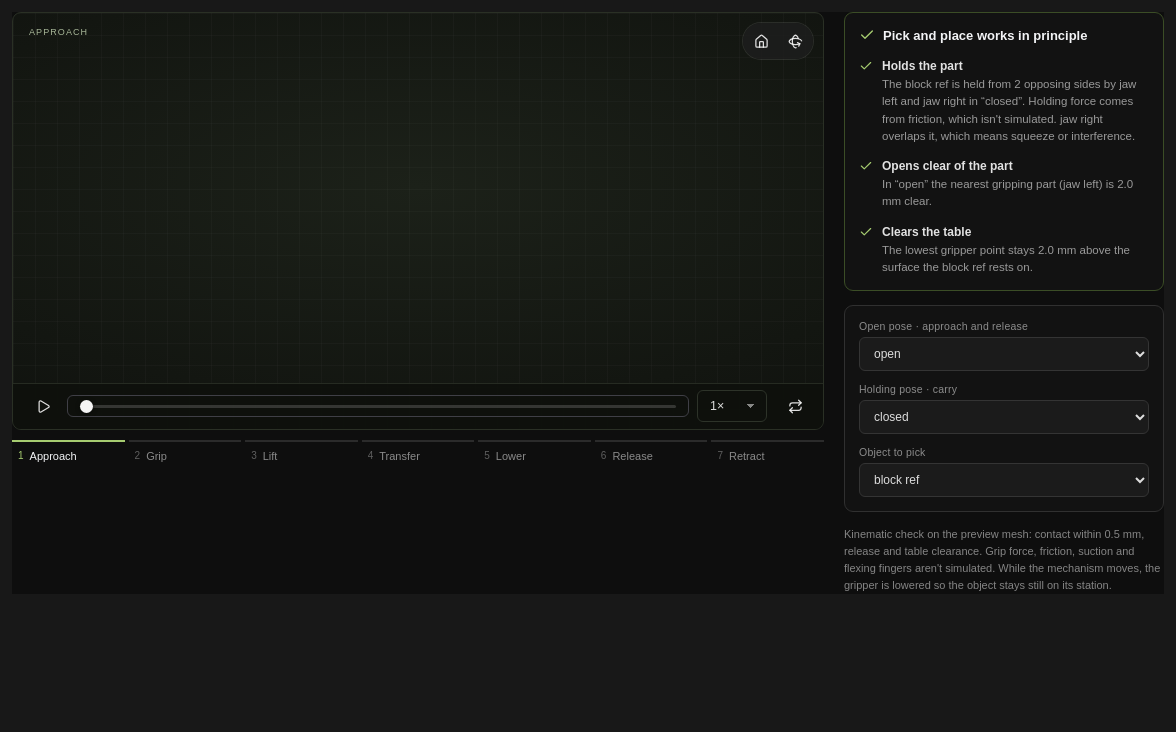
Scenario: Pick & place tab › animates the cycle and shows the mechanism verdict
The image size is (1176, 732).
Expected: the heading "Pick and place works in principle" is shown, left=883, top=28, right=1088, bottom=42
Expected: the dropdown labelled "Object to pick" shows "block ref", left=859, top=463, right=1149, bottom=497
Step 1. Click the button "4 Transfer" → click(418, 455), box left=362, top=440, right=474, bottom=470
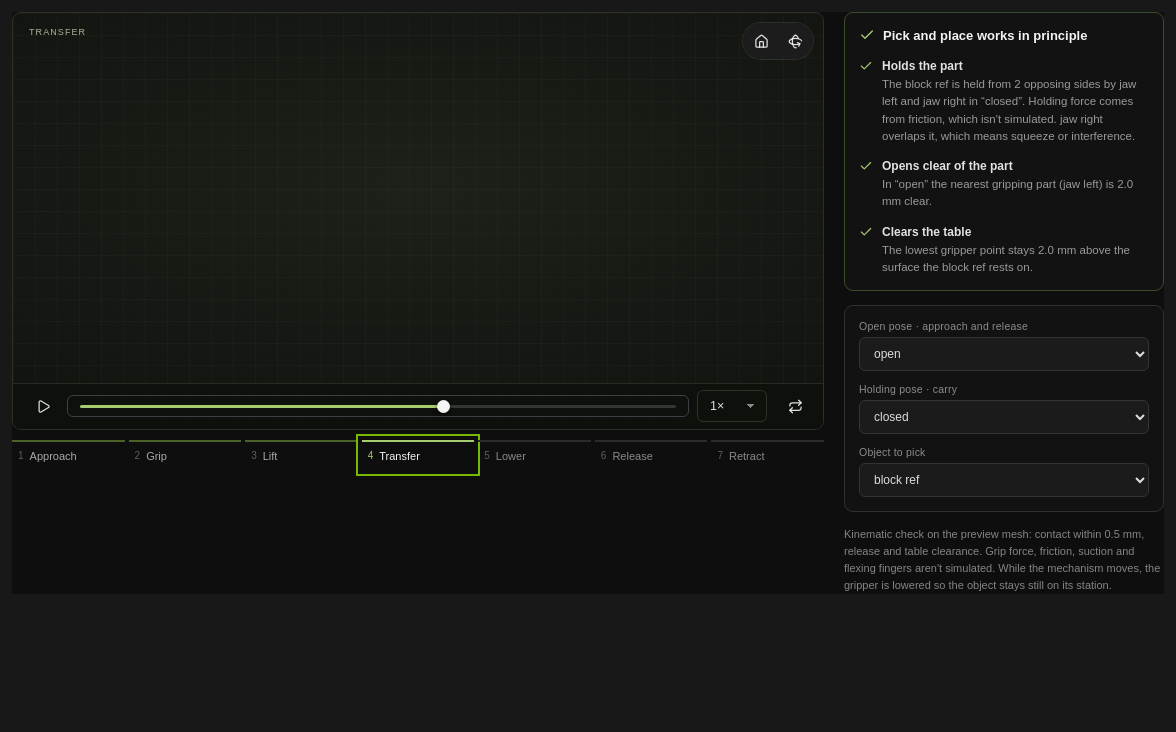
Now the button "4 Transfer" is marked as current, box left=362, top=440, right=474, bottom=470
Step 2. Select "Test block (fits the closed grip)" in the dropdown labelled "Object to pick" → (1004, 480), box left=859, top=463, right=1149, bottom=497
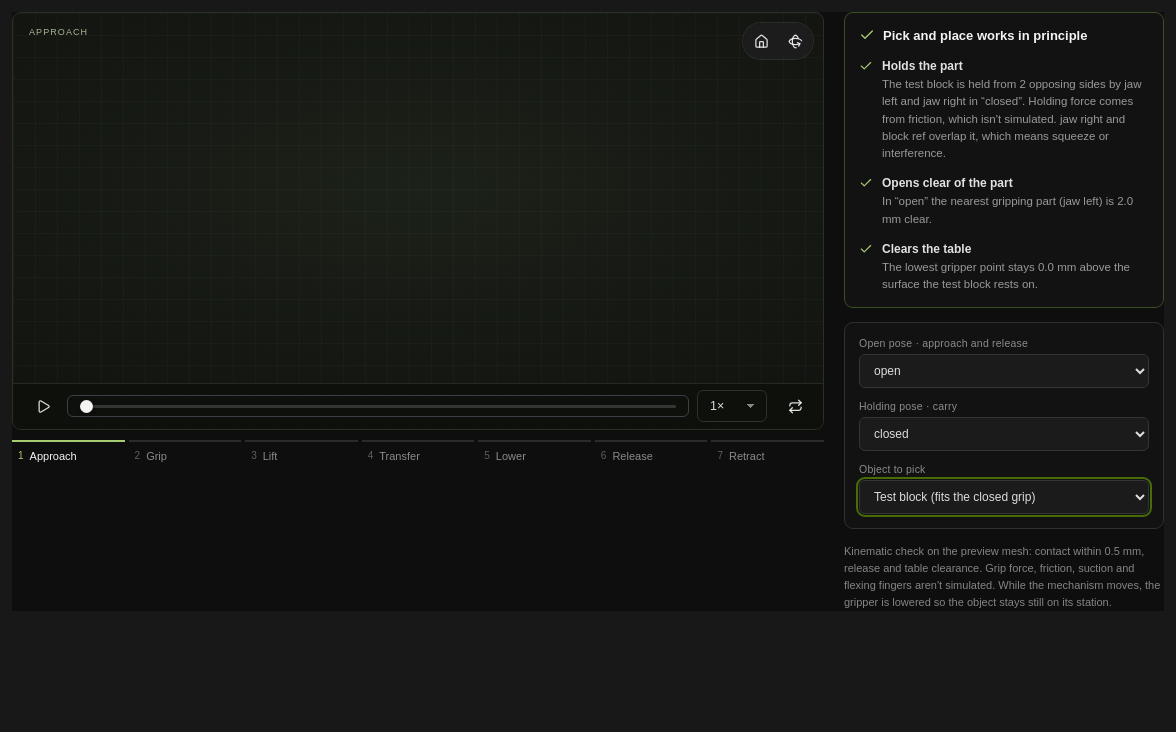
Now the text "test block is held from 2 opposing sides" is shown, box left=882, top=78, right=1142, bottom=159
